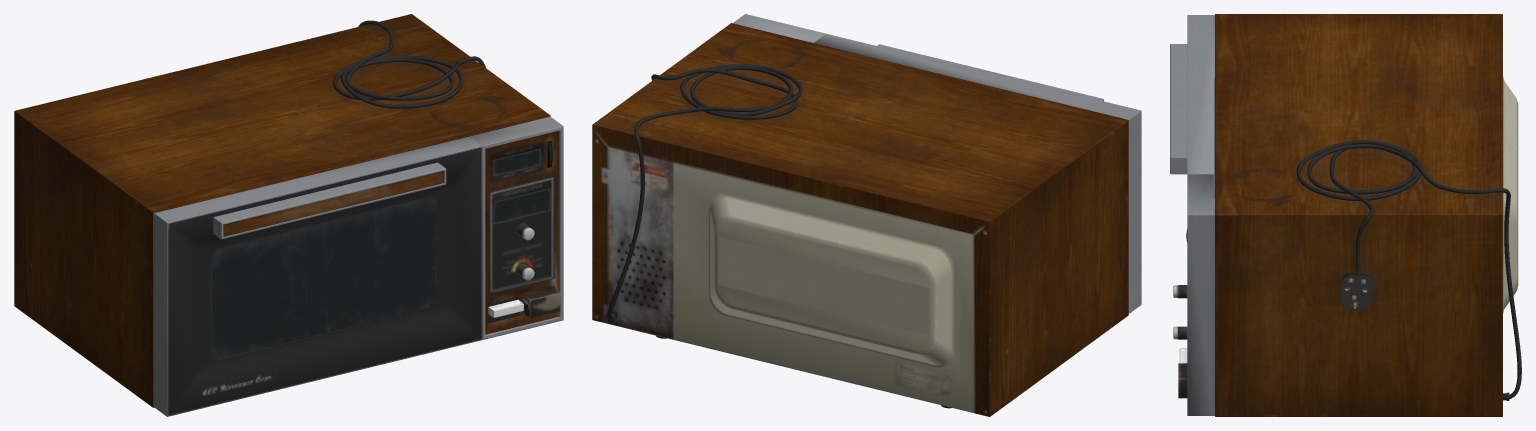
The model's file is vintage_microwave.glb.
3 renders of one model, left to right at view 1: azimuth 30°, elevation 25°; view 2: azimuth 150°, elevation 25°; view 3: azimuth 270°, elevation 25°, orthographic. The views are drawn at different scales.
Visible parts, largest first — view 1: vintage_microwave; view 2: vintage_microwave; view 3: vintage_microwave.
Part boxes in pixels (x1=…): vintage_microwave: x1=14, y1=14, x2=563, y2=416; vintage_microwave: x1=592, y1=14, x2=1141, y2=416; vintage_microwave: x1=1170, y1=14, x2=1521, y2=416.
Bounding box in the file's own units: 1.07 × 0.5258 × 0.7456.
2 materials, 2 textured.
